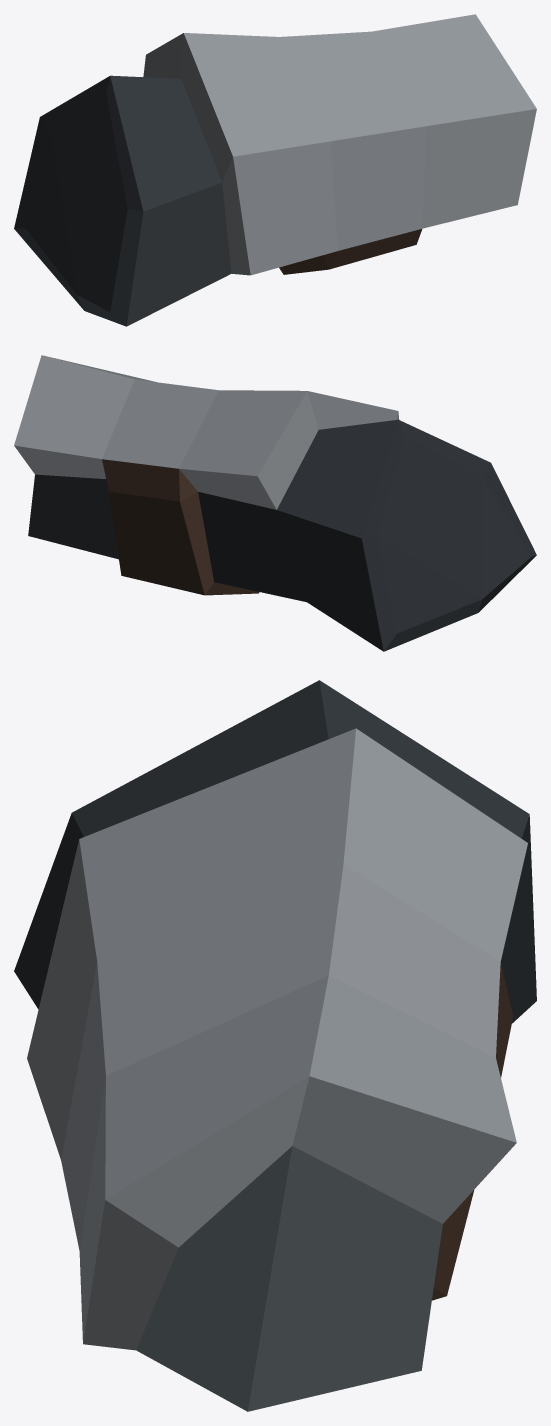
Rendered from Chr_ArmUpperLeft_Male_06_Static.fbx.
The picture shows the model from 3 angles, top to bottom: view 1: azimuth 30°, elevation 25°; view 2: azimuth 150°, elevation 25°; view 3: azimuth 270°, elevation 25°; orthographic projection. The views are drawn at different scales.
Parts seen in each view (by area): view 1: Chr_ArmUpperLeft_Male_06_Static; view 2: Chr_ArmUpperLeft_Male_06_Static; view 3: Chr_ArmUpperLeft_Male_06_Static.
Boxes of the visible parts, left/top/right/bottom form: Chr_ArmUpperLeft_Male_06_Static: left=14, top=14, right=536, bottom=326; Chr_ArmUpperLeft_Male_06_Static: left=14, top=355, right=536, bottom=651; Chr_ArmUpperLeft_Male_06_Static: left=14, top=680, right=536, bottom=1411.
Size of the model in its own units: 0.3307 by 0.1731 by 0.1736.
